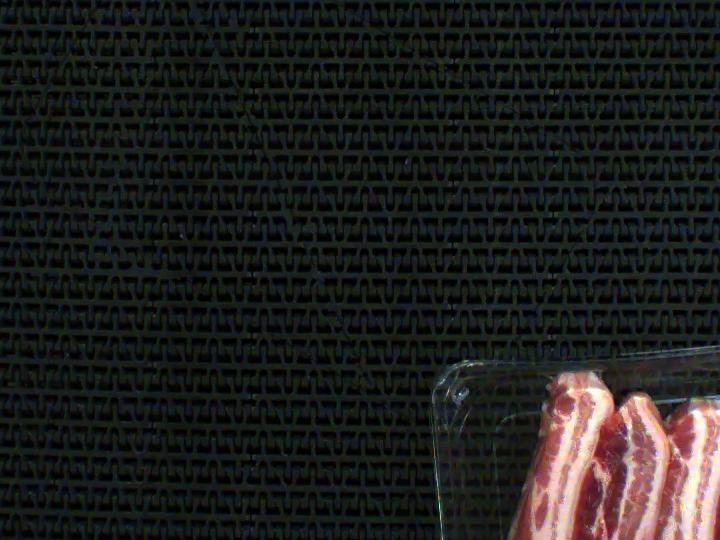packaging-error: (505, 347, 637, 424)
